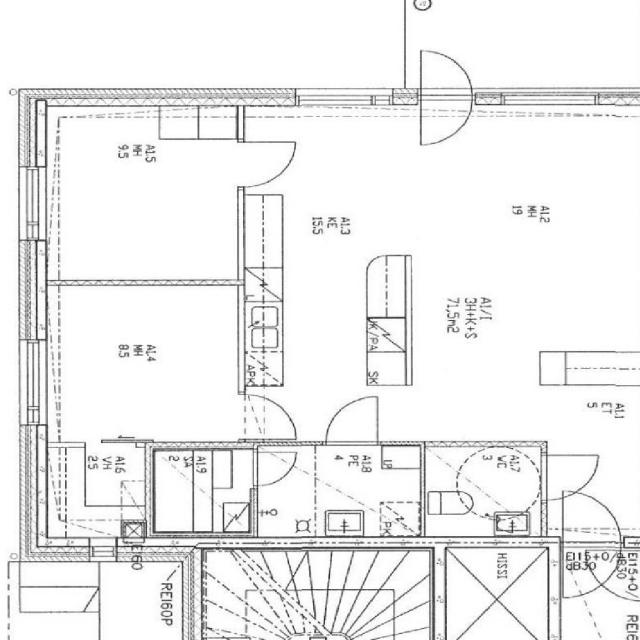door: (562, 486, 620, 549), (562, 537, 620, 599), (421, 44, 472, 106), (421, 88, 472, 150), (540, 455, 599, 500), (238, 142, 296, 187), (238, 394, 296, 438), (327, 396, 378, 446), (249, 451, 297, 486)
